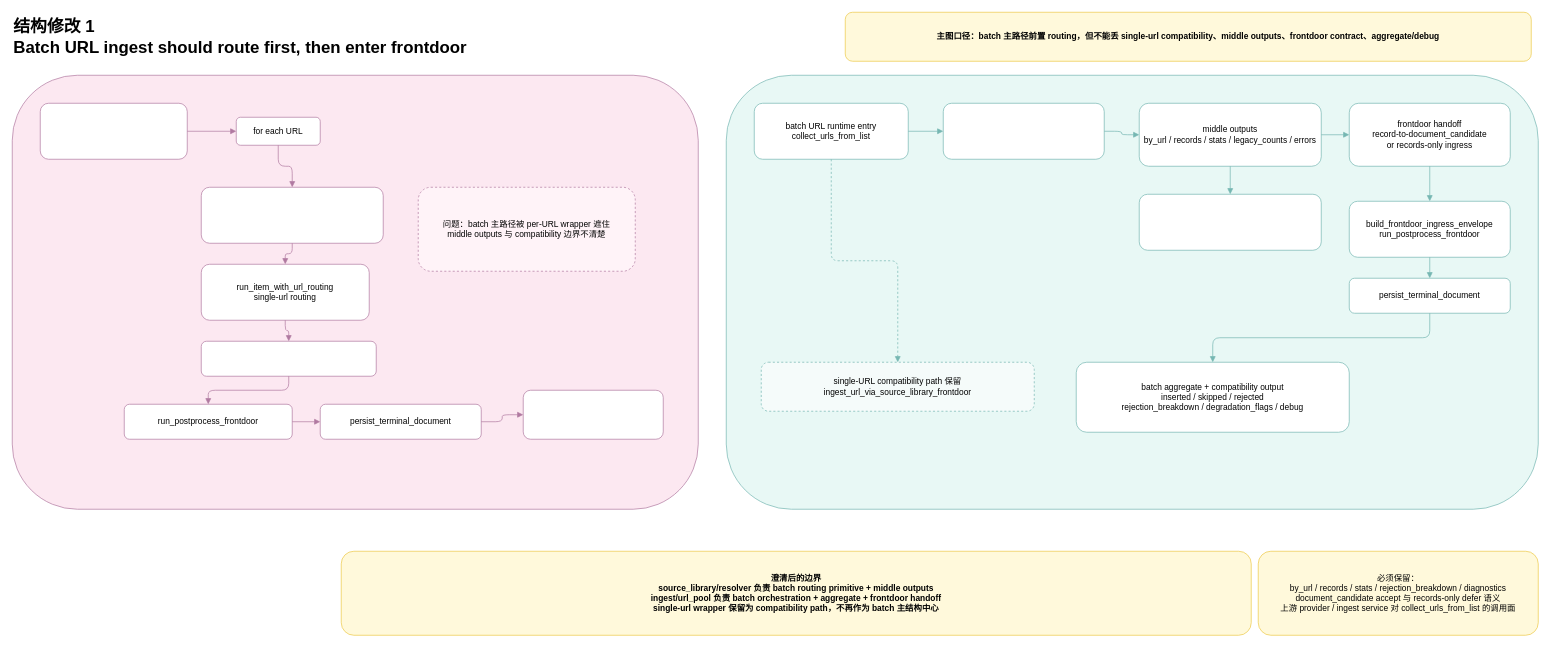
Some shapes in this 1551 by 648 pixel diagram are drawn without their labels. The box of each missing label's shape, as (x1, y1, x2, y2) in pixels:
batch routing primitive run_item_with_url_routing: (943, 103, 1104, 159)
build_frontdoor_ingress_envelope: (201, 341, 376, 376)
collect_urls_from_list batch 入口壳层: (40, 103, 187, 159)
ingest_url_via_source_library_frontdoor single-url wrapper: (201, 187, 383, 243)
routing diagnostics timeout / crawler fallback / per-URL debug: (1139, 194, 1321, 250)
回到 batch 层聚合 inserted / skipped / rejected: (523, 390, 663, 439)
建议结构: (726, 75, 1538, 509)
当前结构: (12, 75, 698, 509)
